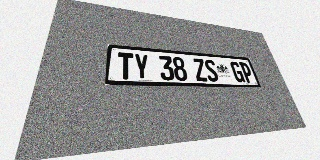3: (159, 55, 175, 81)
8: (172, 57, 188, 81)
G: (229, 61, 246, 82)
P: (239, 62, 255, 83)
S: (203, 59, 220, 82)
T: (117, 52, 134, 80)
Y: (134, 53, 150, 80)
Z: (192, 58, 208, 81)
